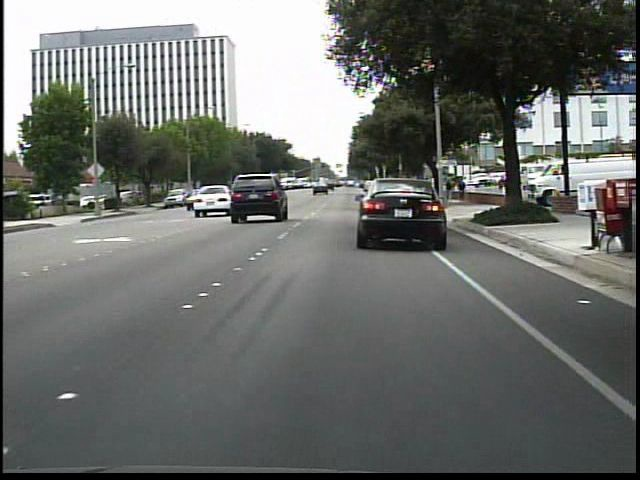person: (441, 176, 455, 202), (456, 176, 468, 205)
